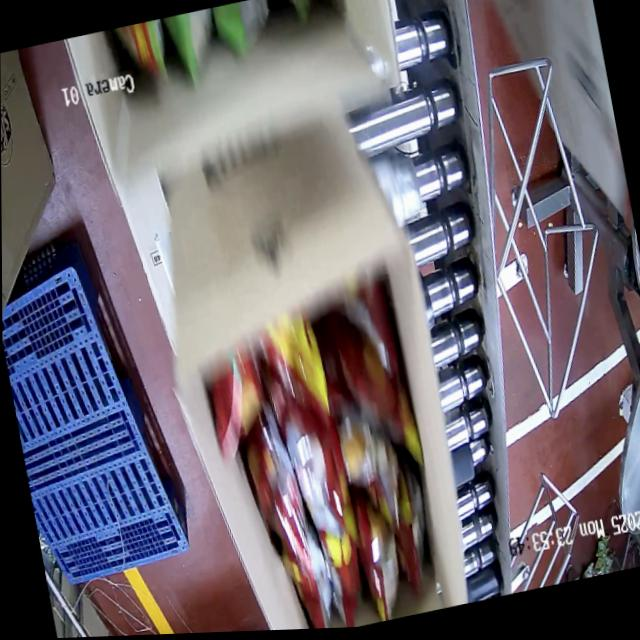MASALA: (205, 275, 446, 632)
